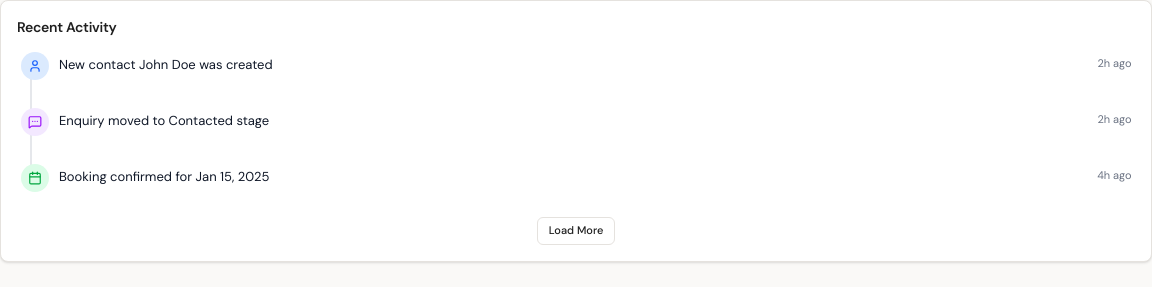
Scenario: ActivityFeed › load more functionality › should fetch more activities when Load More is clicked
// Click Load More
Click the button "Load More": (576, 230) [537,216,615,244]
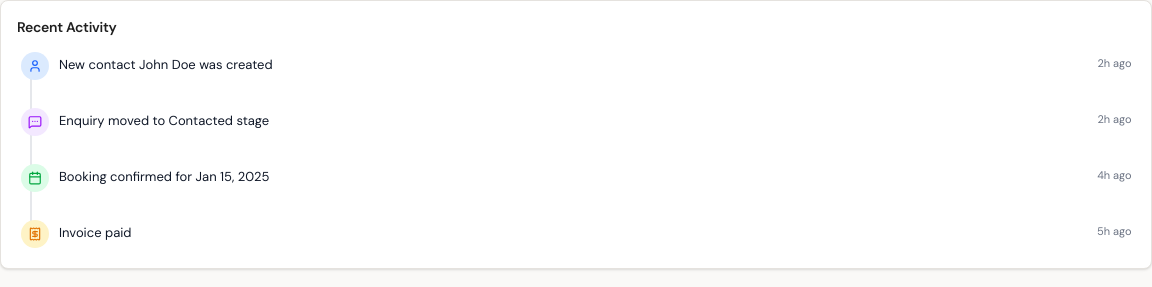
Expected: the text "Invoice paid" is shown, [59,224,132,240]
